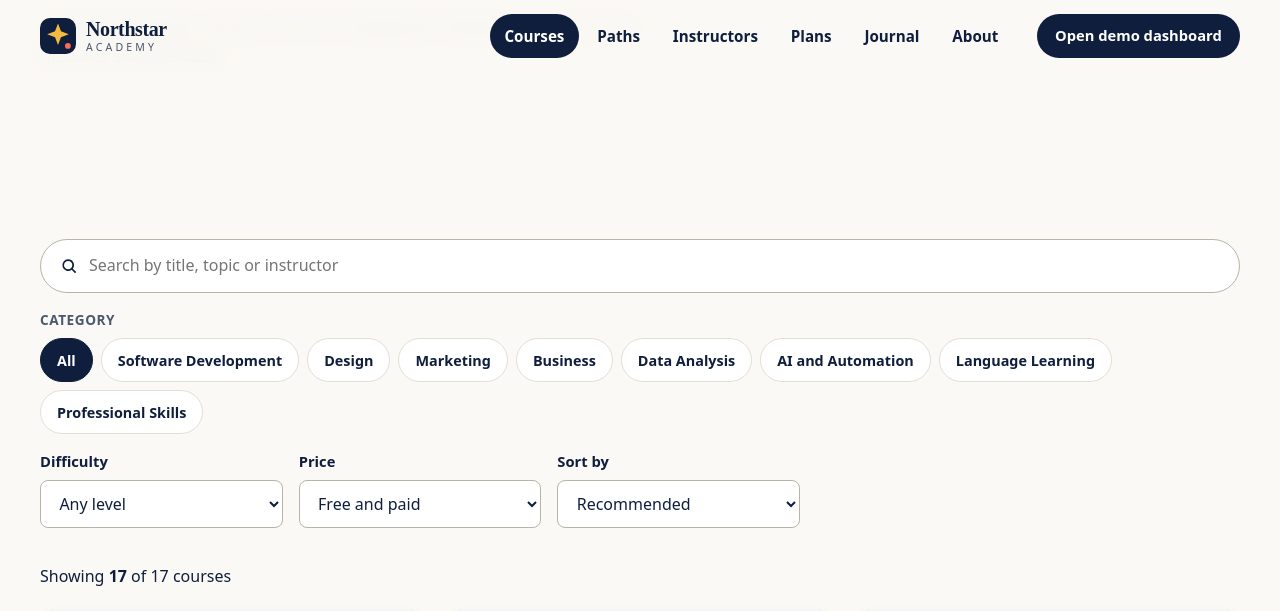
Scenario: catalogue UI › applies category, price and sort filters
(page scrolled)
Click the button "Data Analysis": (686, 360) [621,338,752,382]
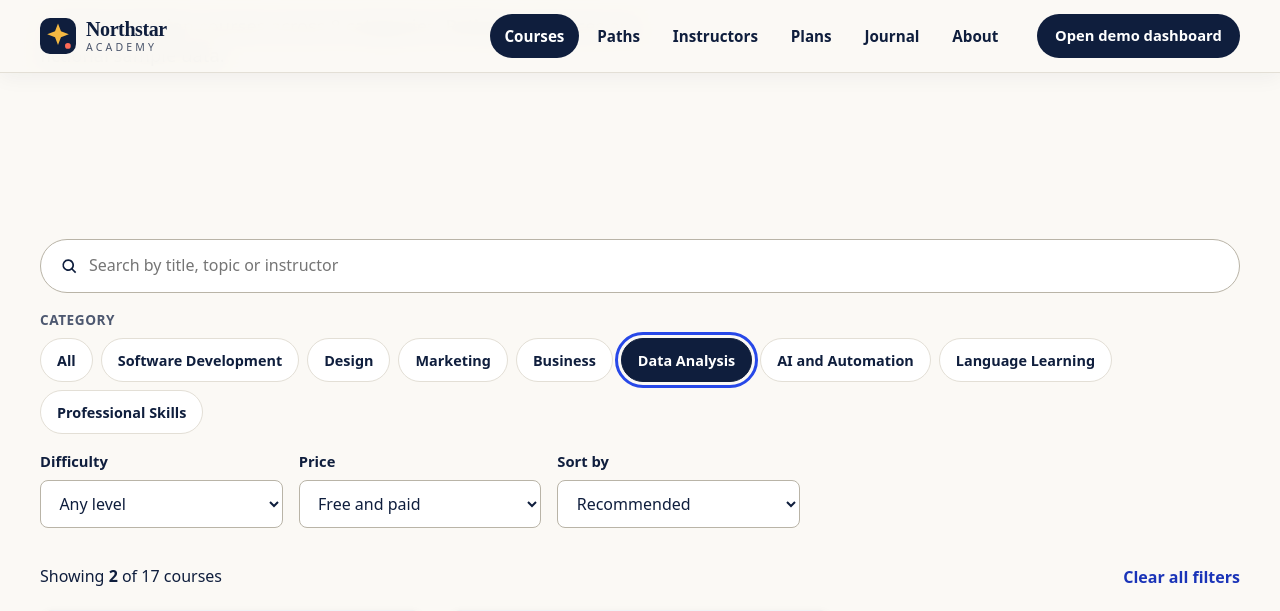
Now the message with test id "result-count" shows "2 of", box [40,564,222,590]
Select "Free only" in the dropdown labelled "Price": (420, 504) [299,480,541,528]
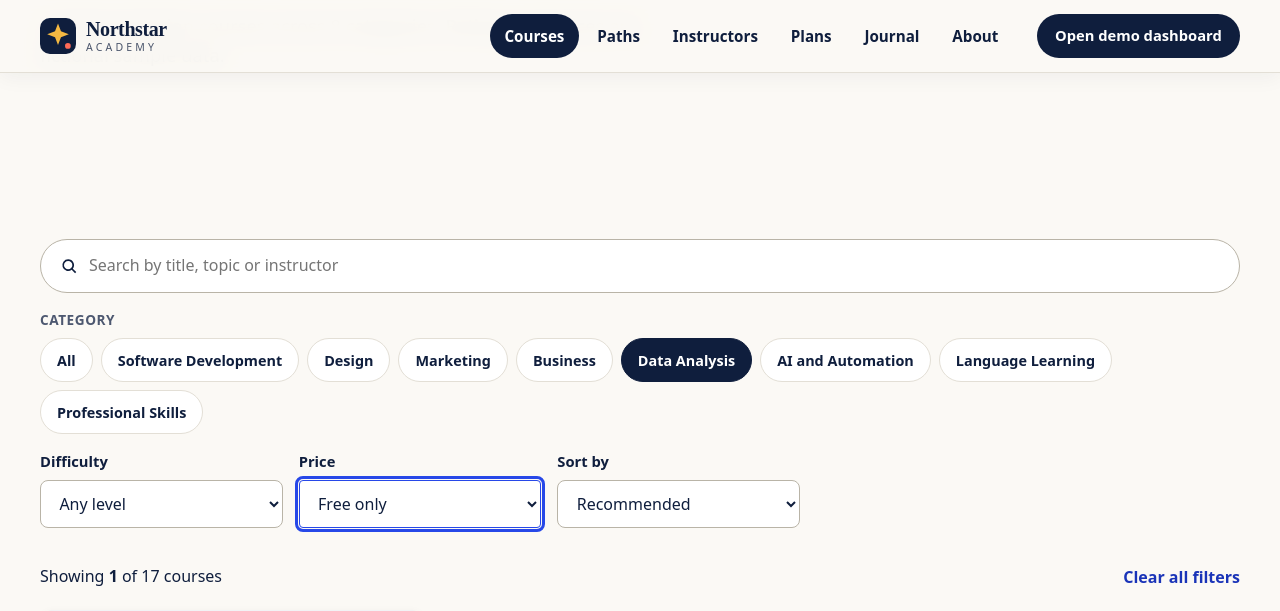
Now the message with test id "result-count" shows "1 of", box [40,564,222,590]
